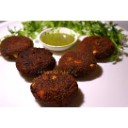cutlet: (32, 71, 78, 107), (17, 46, 58, 72), (60, 51, 96, 73), (80, 36, 117, 57), (1, 37, 32, 57)
